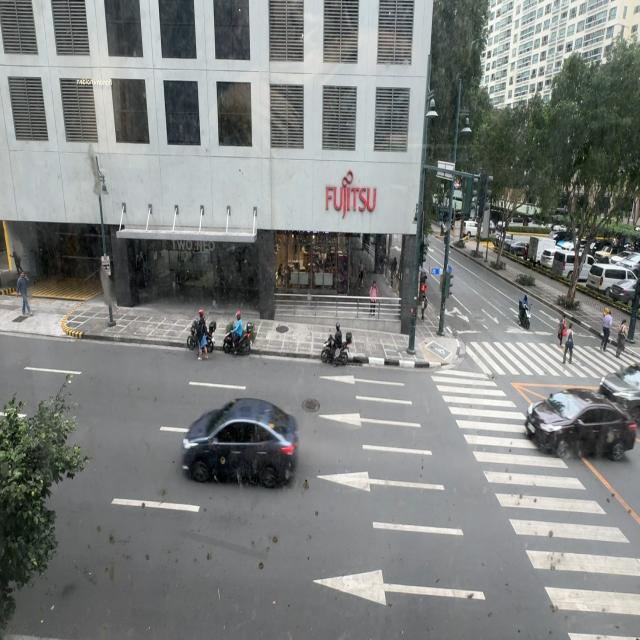crossing: (600, 308, 612, 352), (561, 321, 573, 363), (616, 318, 628, 355), (557, 314, 567, 349)
pedestrain: (17, 272, 32, 316)
